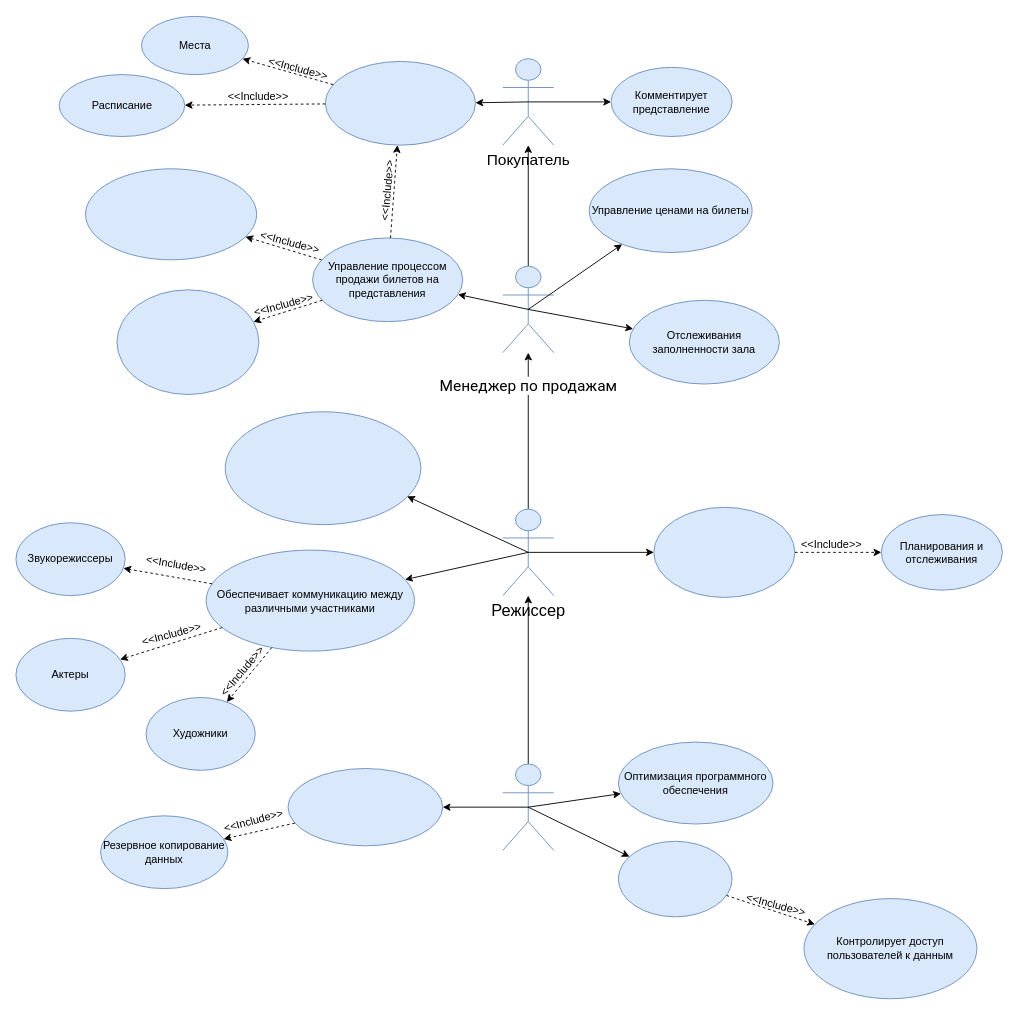
Image size: 1018x1015. Some labels were removed from this diagram. The centre of each missing label's shape, as x and y in pixels:
"Администратор" belongs at (528,806).
"Анализирует поведение покупателей для увеличения продаж" belongs at (171,214).
"Информация о пьесах, актерах, репетиционном графике, реквизите" belongs at (322,468).
"Обеспечение безопасности базы данных" belongs at (674,878).
"Осуществление художественного задумки представлений" belongs at (724,551).
"Отвечает за обновление базы данных театра" belongs at (365,807).
"Отчеты о продажах" belongs at (187,341).
"Приобретение билетов на представления" belongs at (399,103).
